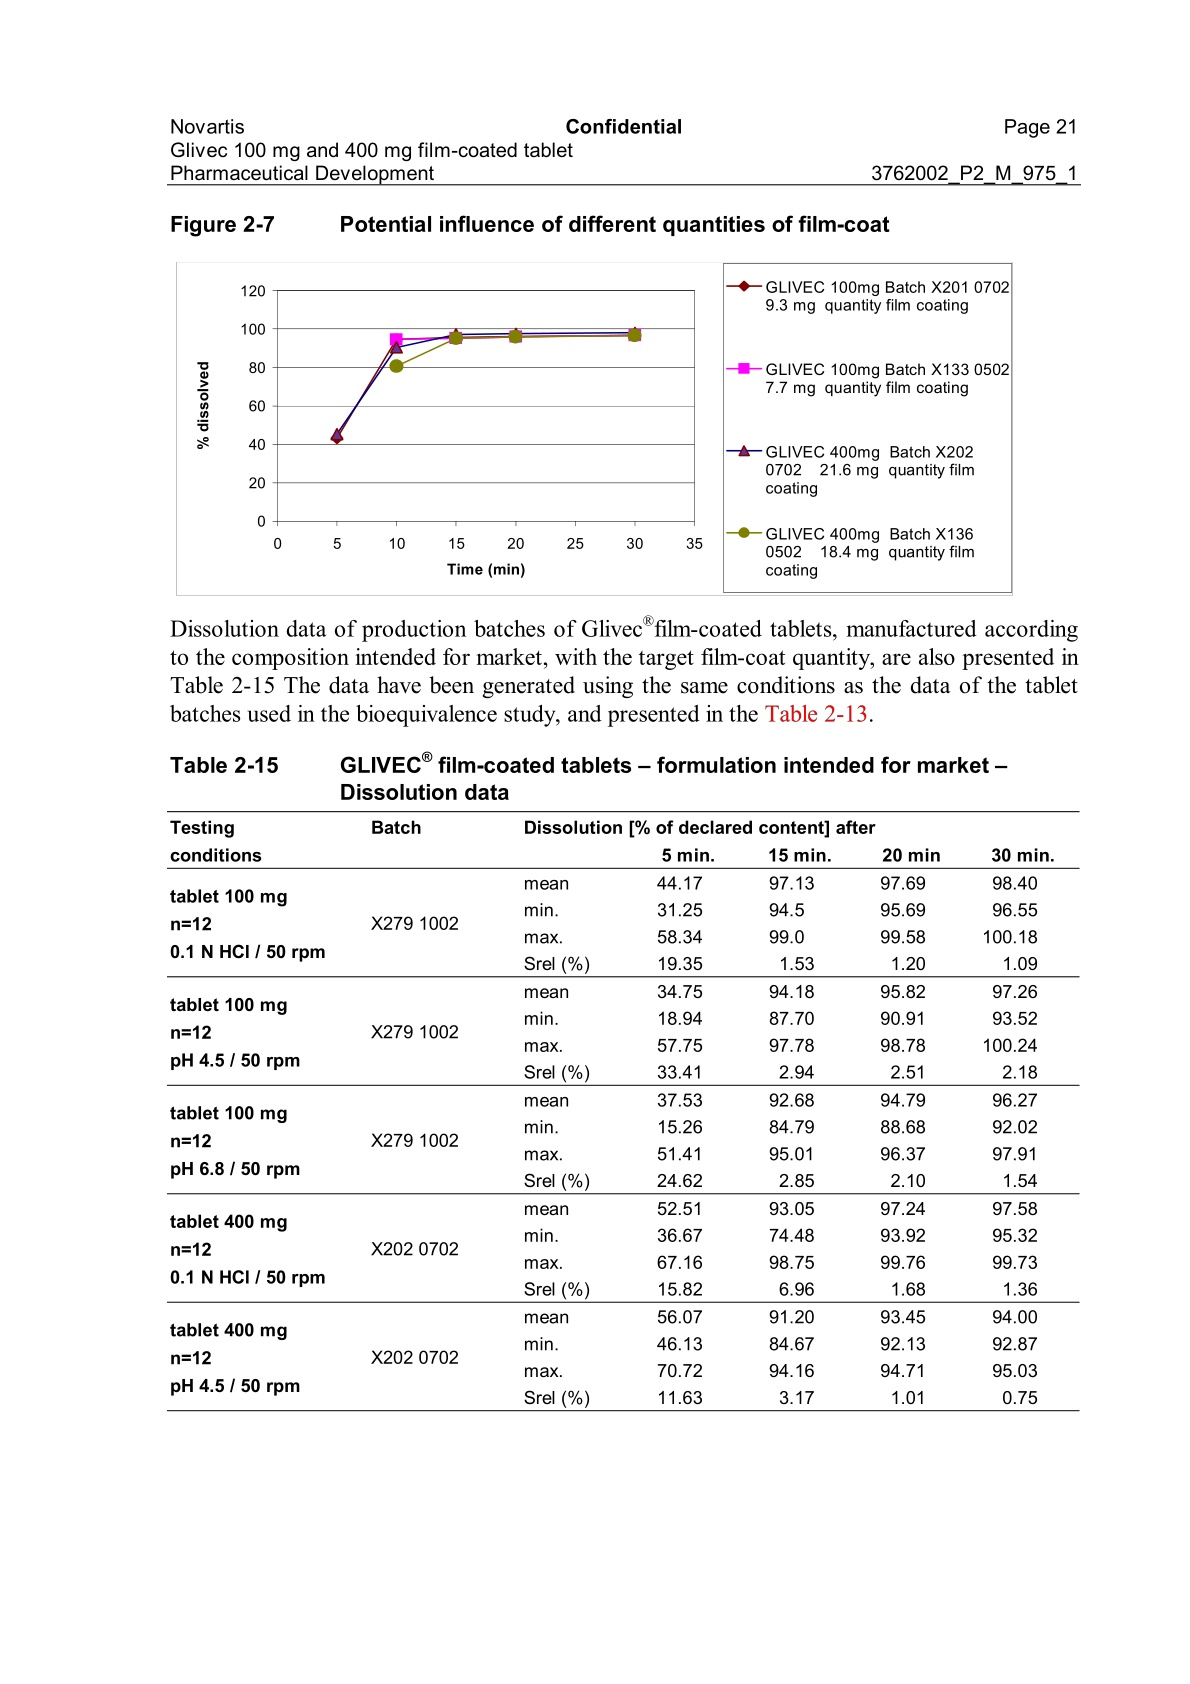partial_lined_merged_cells: (167, 809, 1083, 1415)
